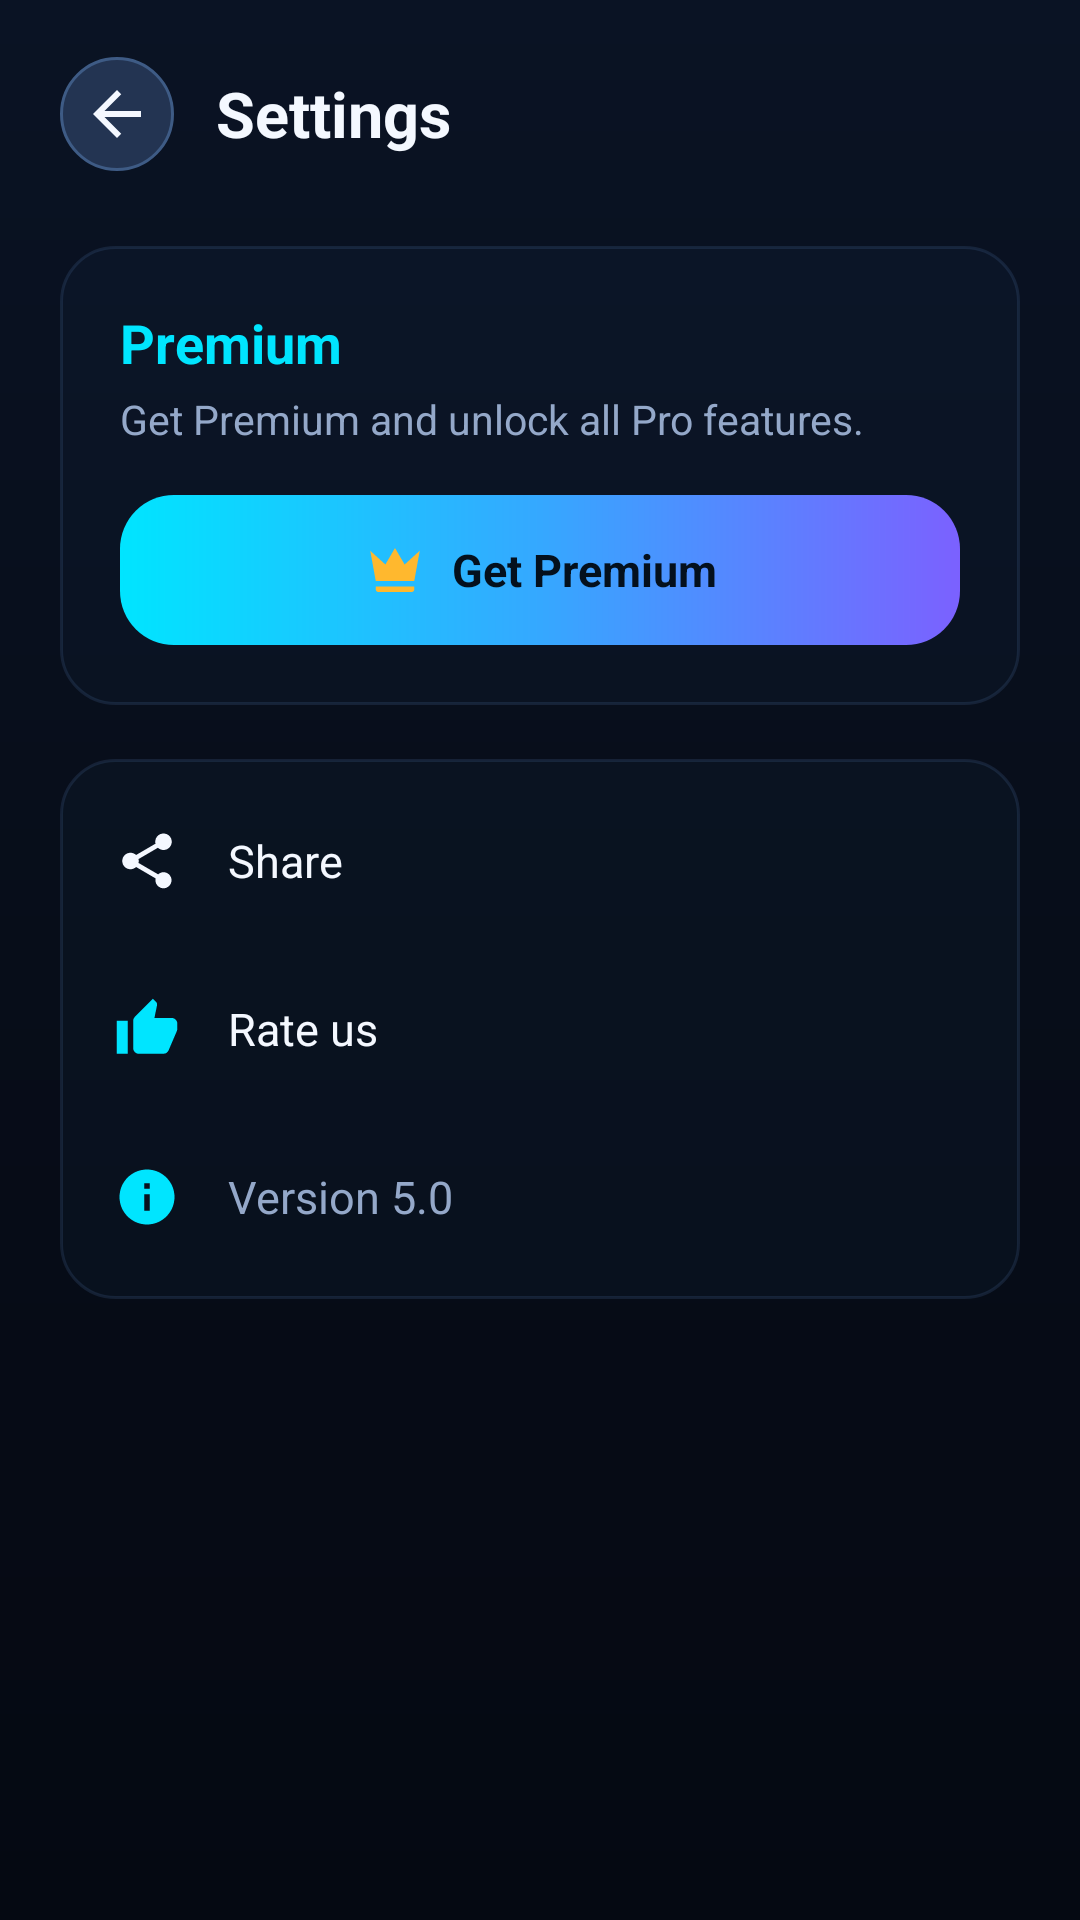

Icon click points for this 1080 × 1920 phone screenshot, format [x,y]:
Back: [117,114]
